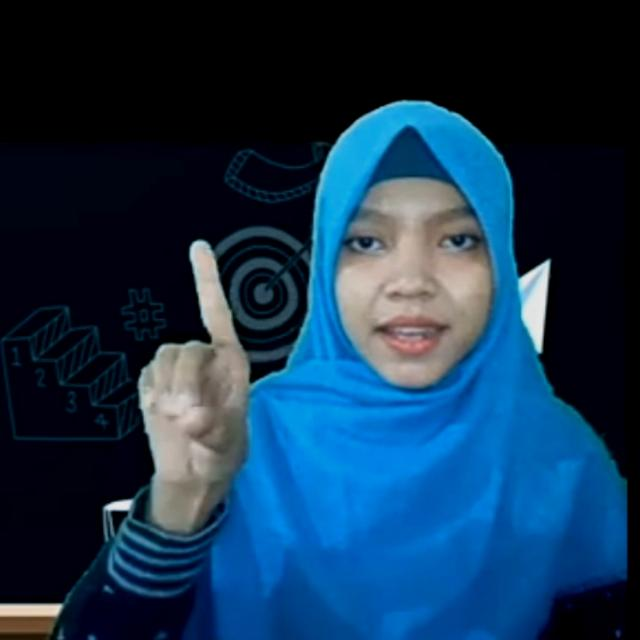D: (134, 238, 254, 497)
